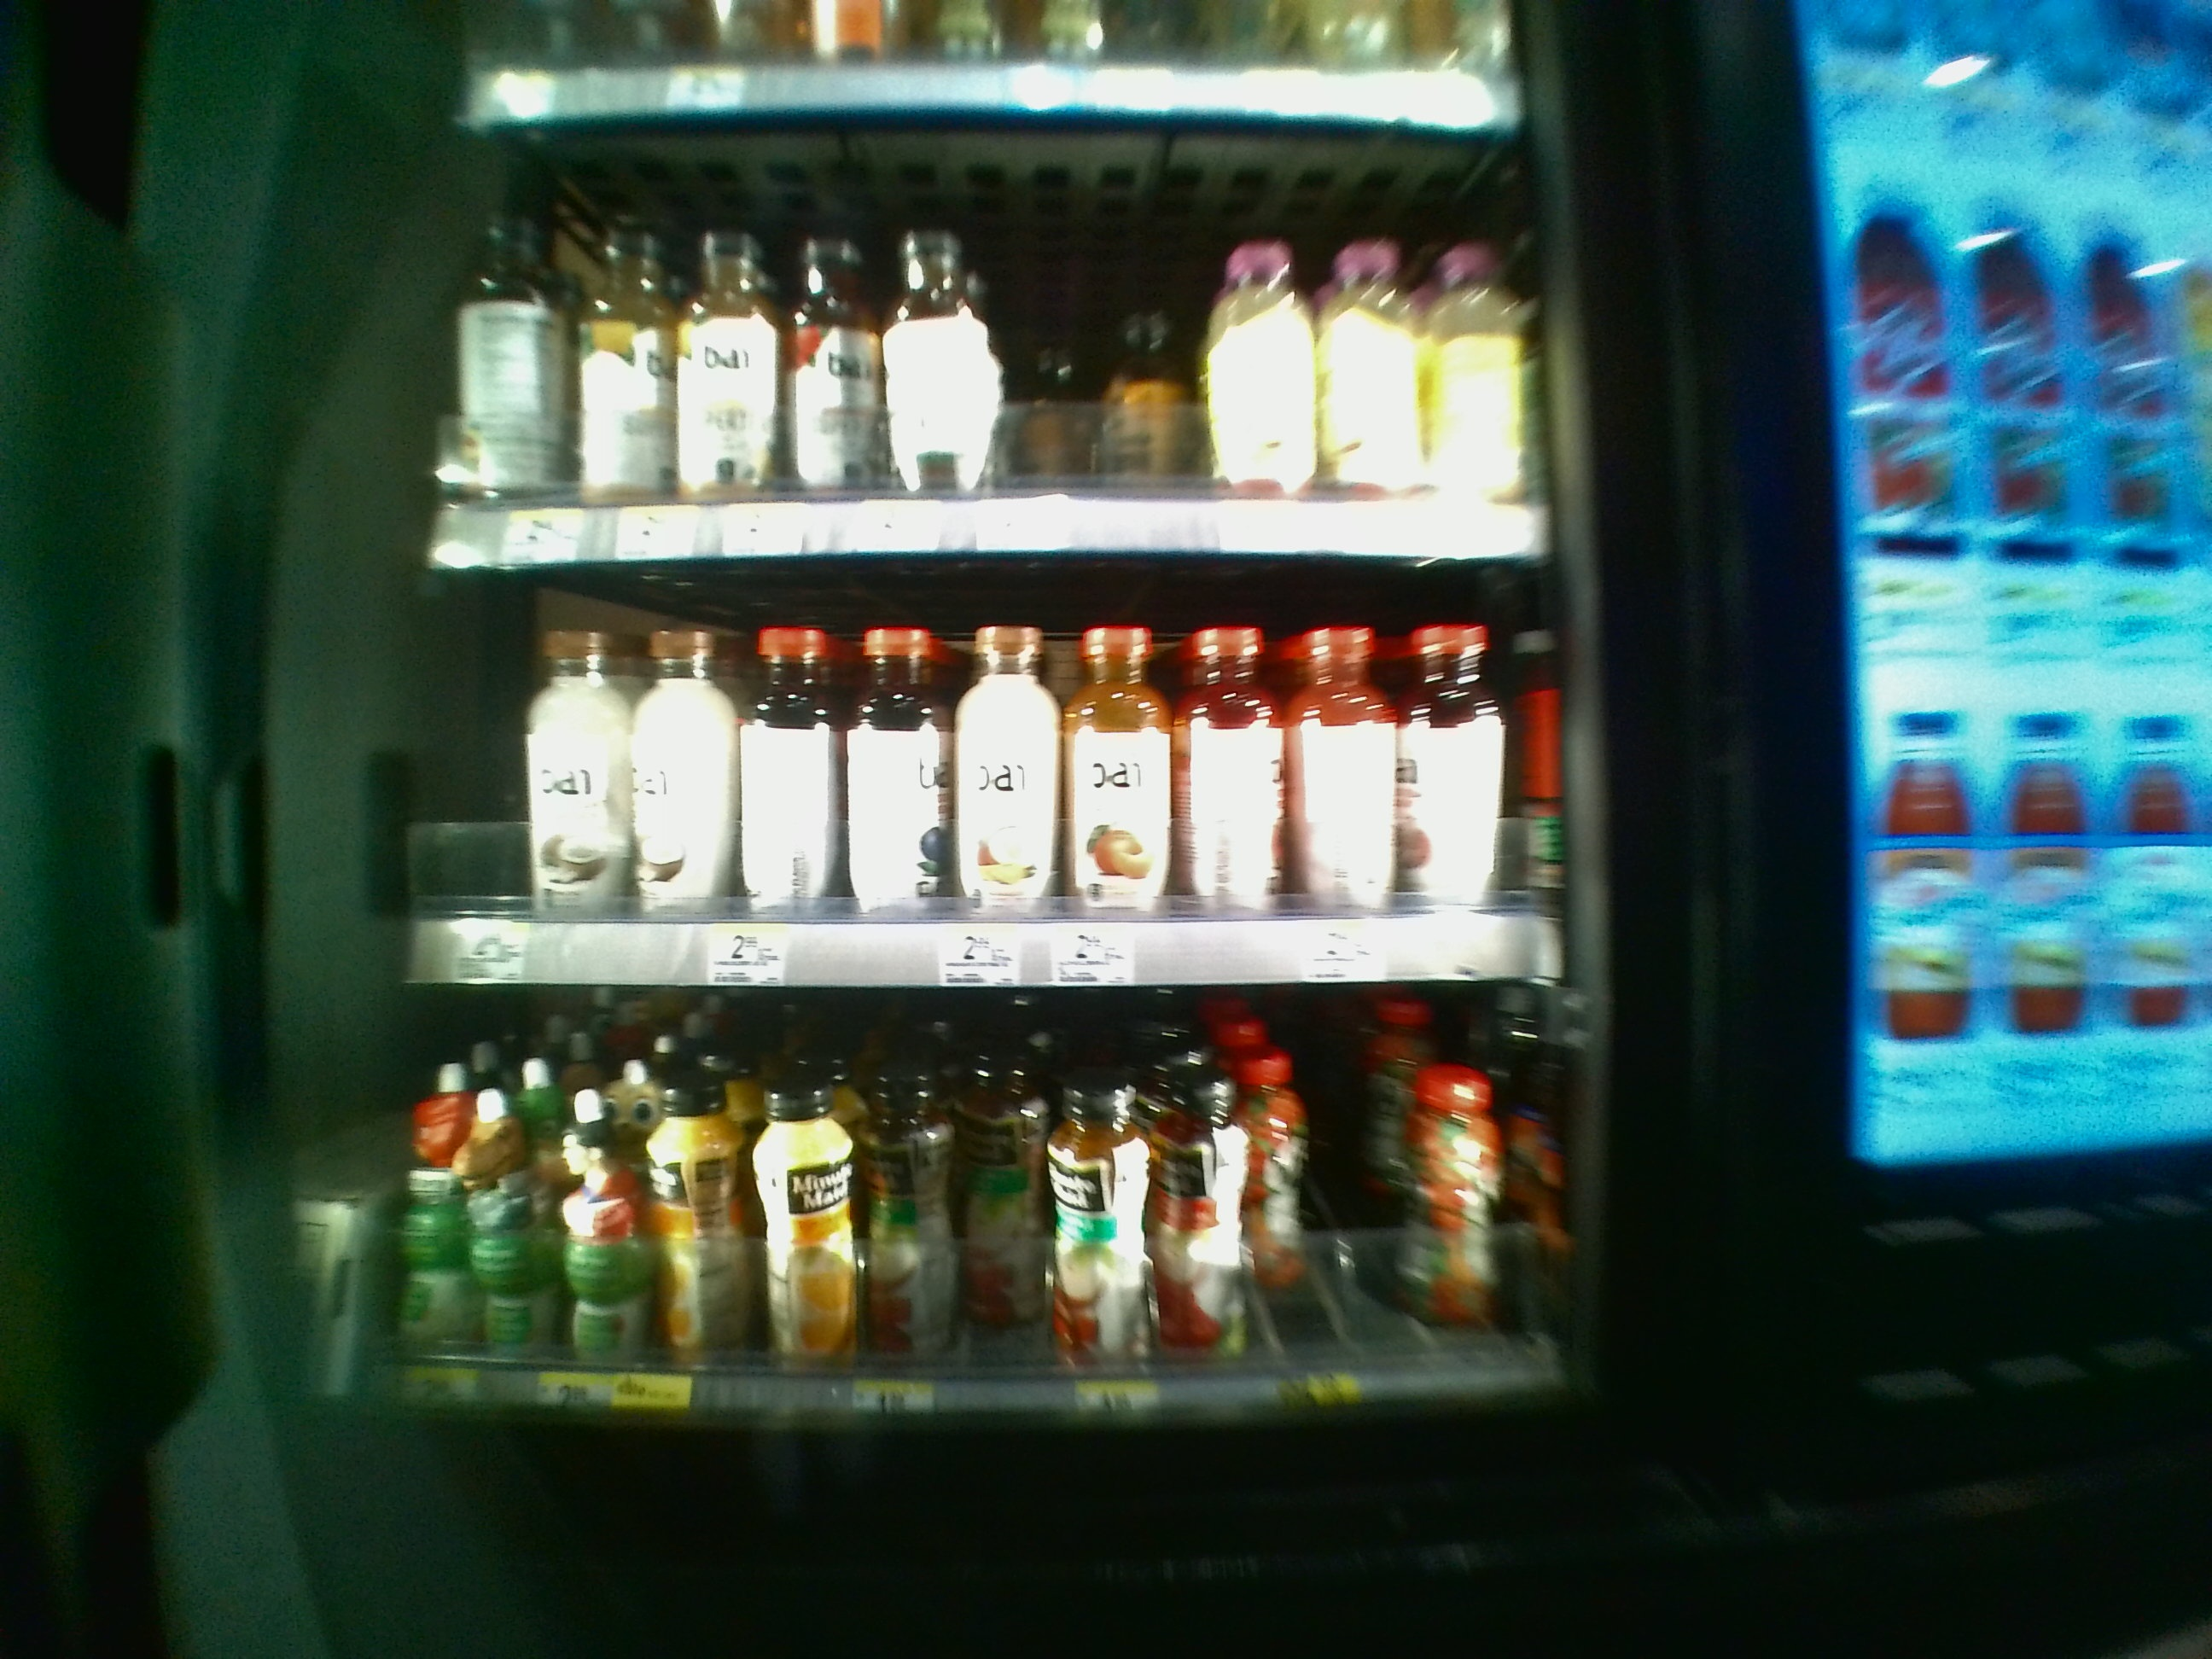shelf: (425, 124, 1545, 563), (392, 997, 1578, 1406), (409, 573, 1569, 978)
